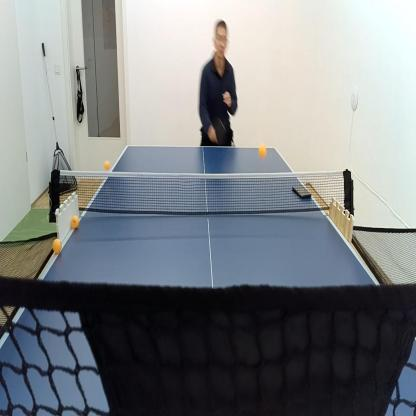Ball: (52, 236, 63, 255), (258, 141, 268, 160), (70, 214, 80, 231), (103, 160, 110, 171)
